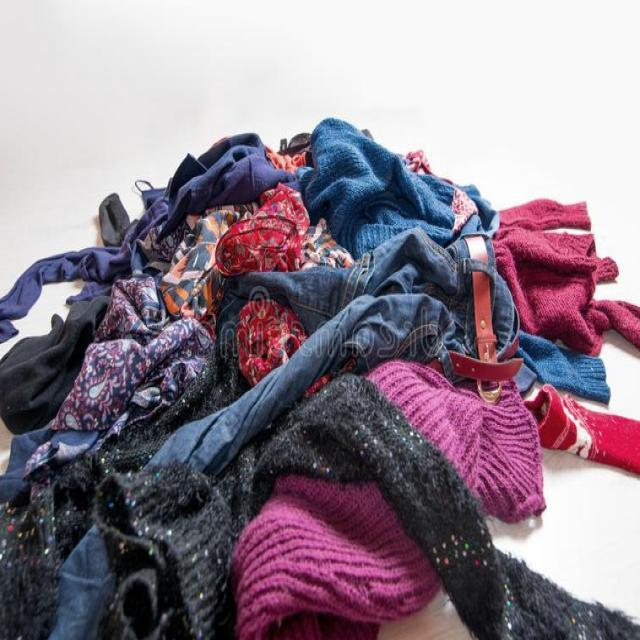clothes: (31, 212, 564, 640)
